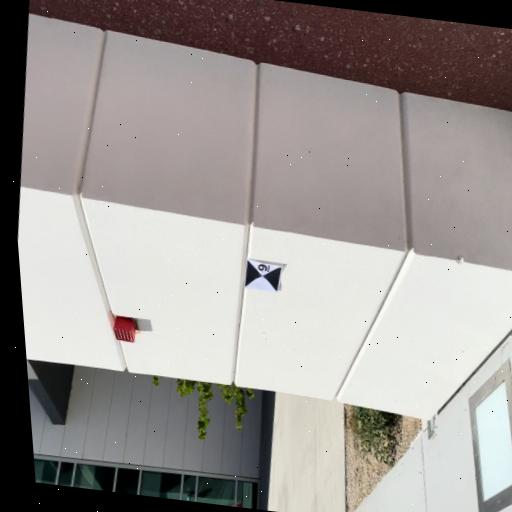target9: (244, 258, 283, 293)
